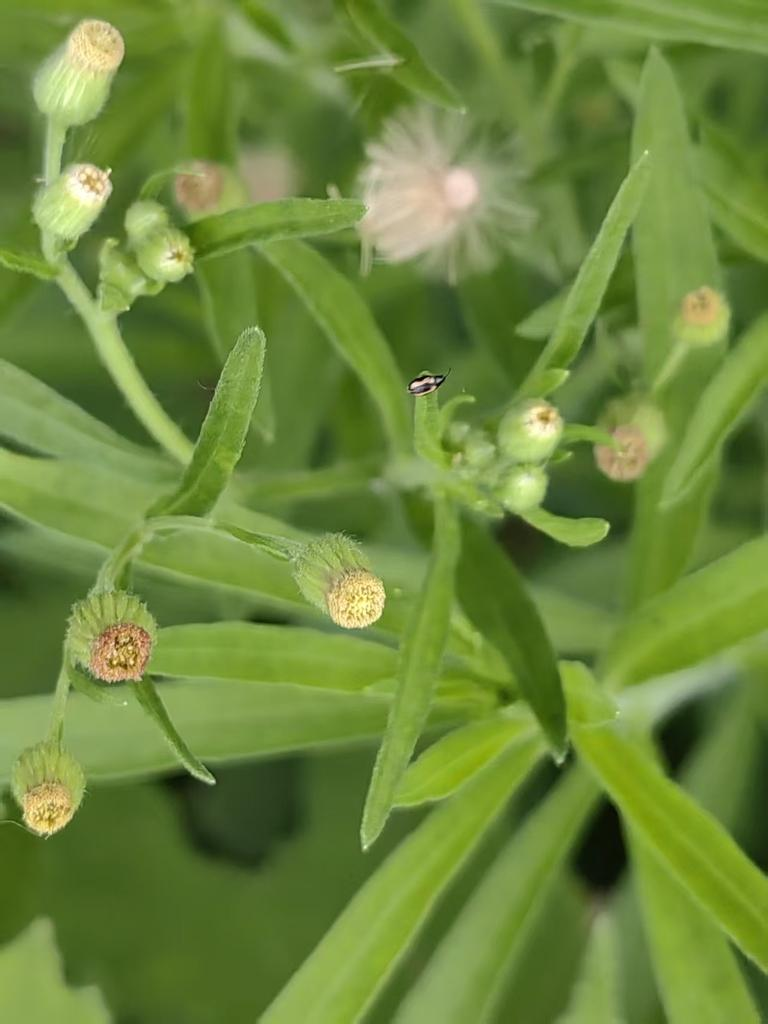flea_beetle: (392, 356, 454, 407)
